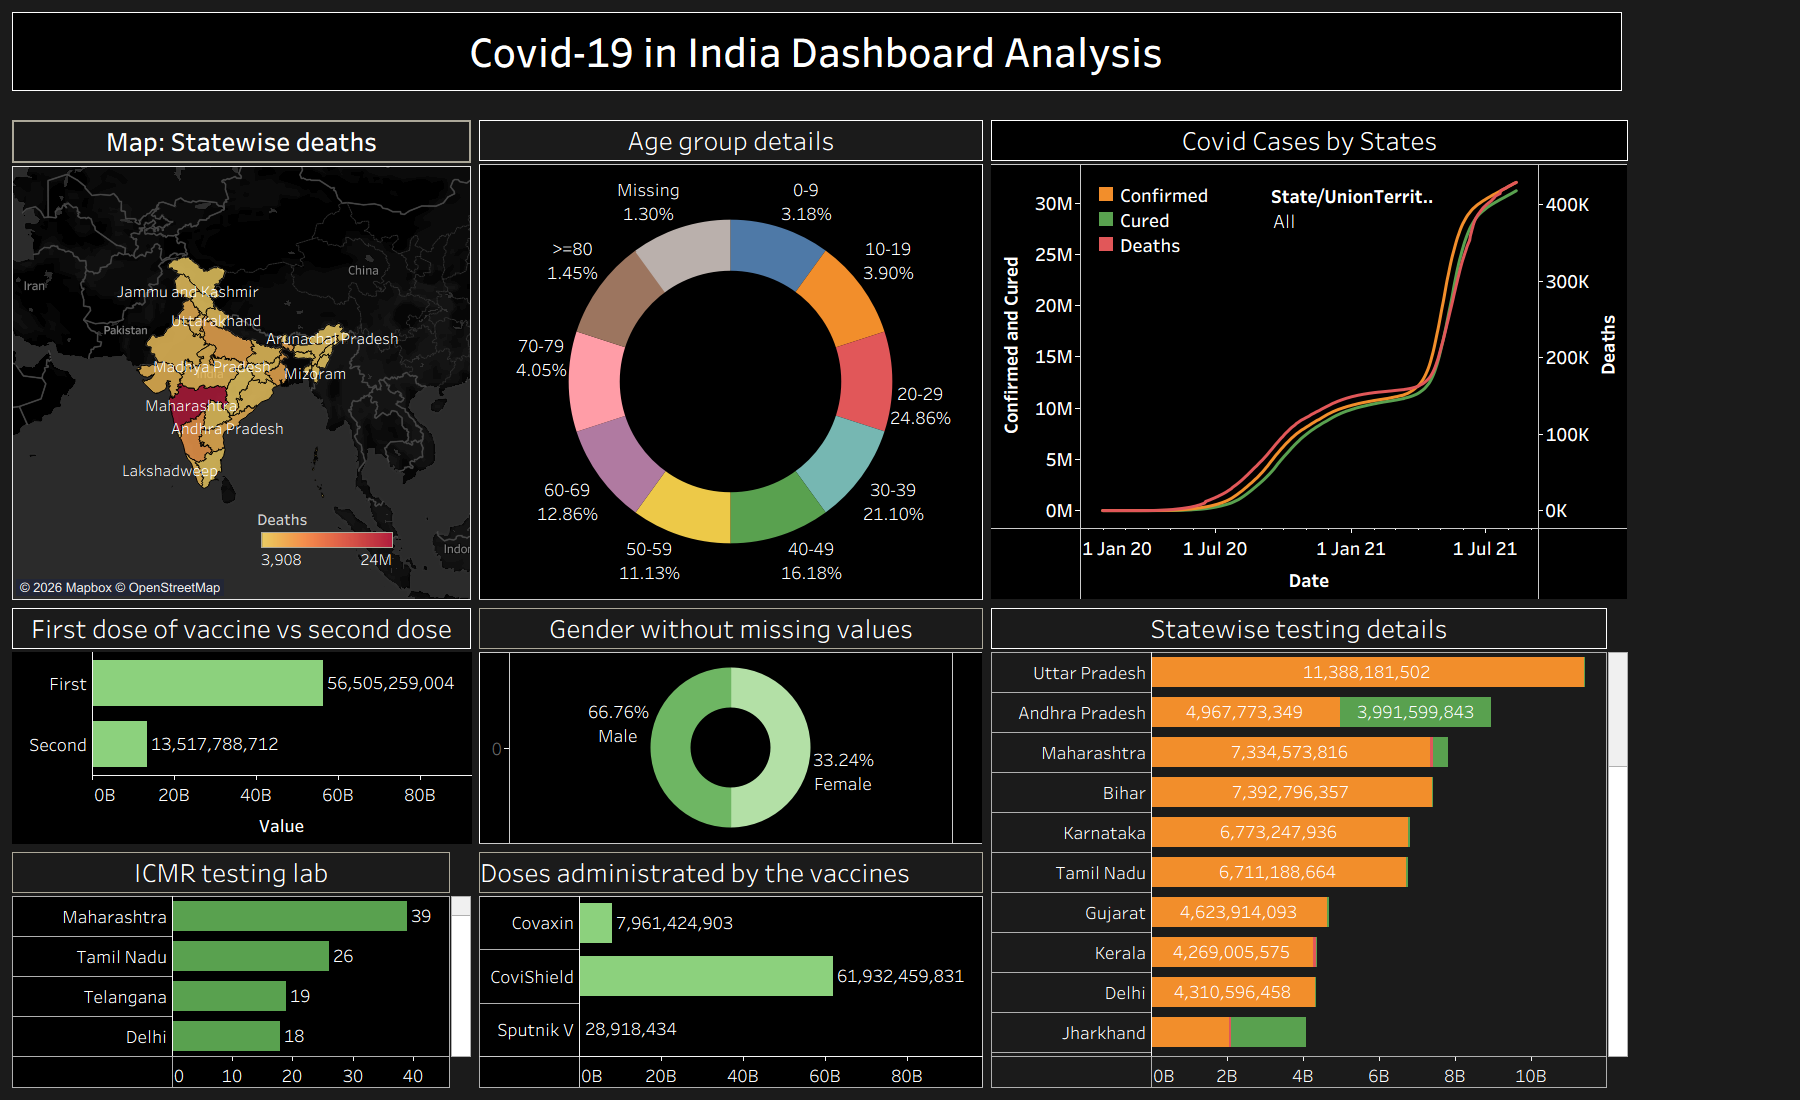

Layout of this report page (visuals, bound fields, positions):
{"tool":"tableau","page":{"name":"Dashboard 1","canvas":[1800,1100],"ordinal":0},"visuals":[{"type":"worksheet","title":"Title","mark":"Automatic","box":[8,8,1784,108]},{"type":"worksheet","title":"Map: Statewise deaths","mark":"Automatic","box":[8,116,467,488]},{"type":"worksheet","title":"Age group details","mark":"Pie","rows":["Calculation_1490428150218753","Calculation_1490428150554627"],"box":[475,116,512,488]},{"type":"worksheet","title":"Covid Cases by States","mark":"Automatic","rows":["Deaths"],"cols":["Date"],"box":[987,116,645,488]},{"type":"legend","title":"Covid Cases by States","param":"[federated.1eiwcue1ow9gfr12ofxge0bgo142].[:Measure Names]","box":[1094,182,140,75]},{"type":"filter","title":"Covid Cases by States","param":"[federated.1eiwcue1ow9gfr12ofxge0bgo142].[none:State/UnionTerritory:nk]","box":[1271,182,168,65]},{"type":"legend","title":"Map: Statewise deaths","param":"[federated.1eiwcue1ow9gfr12ofxge0bgo142].[sum:Deaths:qk]","box":[257,505,140,88]},{"type":"worksheet","title":"First dose of vaccine vs second dose","mark":"Automatic","box":[8,604,467,244]},{"type":"worksheet","title":"Gender without missing values","mark":"Pie","rows":["Calculation_1490428153384965","Calculation_1490428153397255"],"box":[475,604,512,244]},{"type":"worksheet","title":"Statewise testing details","mark":"Automatic","rows":["State"],"box":[987,604,645,488]},{"type":"worksheet","title":"ICMR testing lab","mark":"Automatic","rows":["state"],"cols":["lab"],"box":[8,848,467,244]},{"type":"worksheet","title":"Doses administrated by the vaccines","mark":"Automatic","box":[475,848,512,244]}]}

Visuals, with their boxes in screenshot pixels (x1, y1, x2, y2), scaled from the page's 1800x1100 canvas onto the 1800x1100 screenshot:
"Title" worksheet: <bbox>8, 8, 1792, 116</bbox>
"Map: Statewise deaths" worksheet: <bbox>8, 116, 475, 604</bbox>
"Age group details" worksheet (Pie marks): <bbox>475, 116, 987, 604</bbox>
"Covid Cases by States" worksheet: <bbox>987, 116, 1632, 604</bbox>
"Covid Cases by States" legend: <bbox>1094, 182, 1234, 257</bbox>
"Covid Cases by States" filter: <bbox>1271, 182, 1439, 247</bbox>
"Map: Statewise deaths" legend: <bbox>257, 505, 397, 593</bbox>
"First dose of vaccine vs second dose" worksheet: <bbox>8, 604, 475, 848</bbox>
"Gender without missing values" worksheet (Pie marks): <bbox>475, 604, 987, 848</bbox>
"Statewise testing details" worksheet: <bbox>987, 604, 1632, 1092</bbox>
"ICMR testing lab" worksheet: <bbox>8, 848, 475, 1092</bbox>
"Doses administrated by the vaccines" worksheet: <bbox>475, 848, 987, 1092</bbox>
